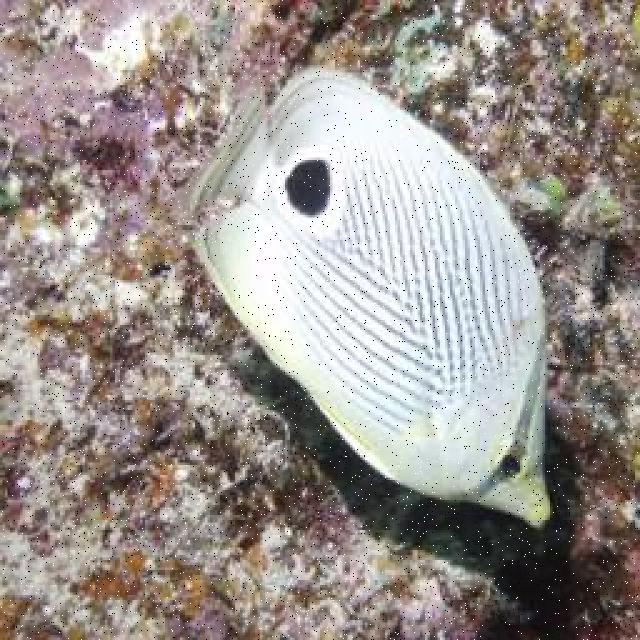fish: (175, 65, 552, 530)
